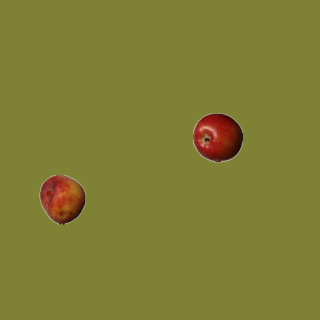Apple Braeburn: (192, 112, 242, 162)
Peach: (37, 174, 87, 224)
